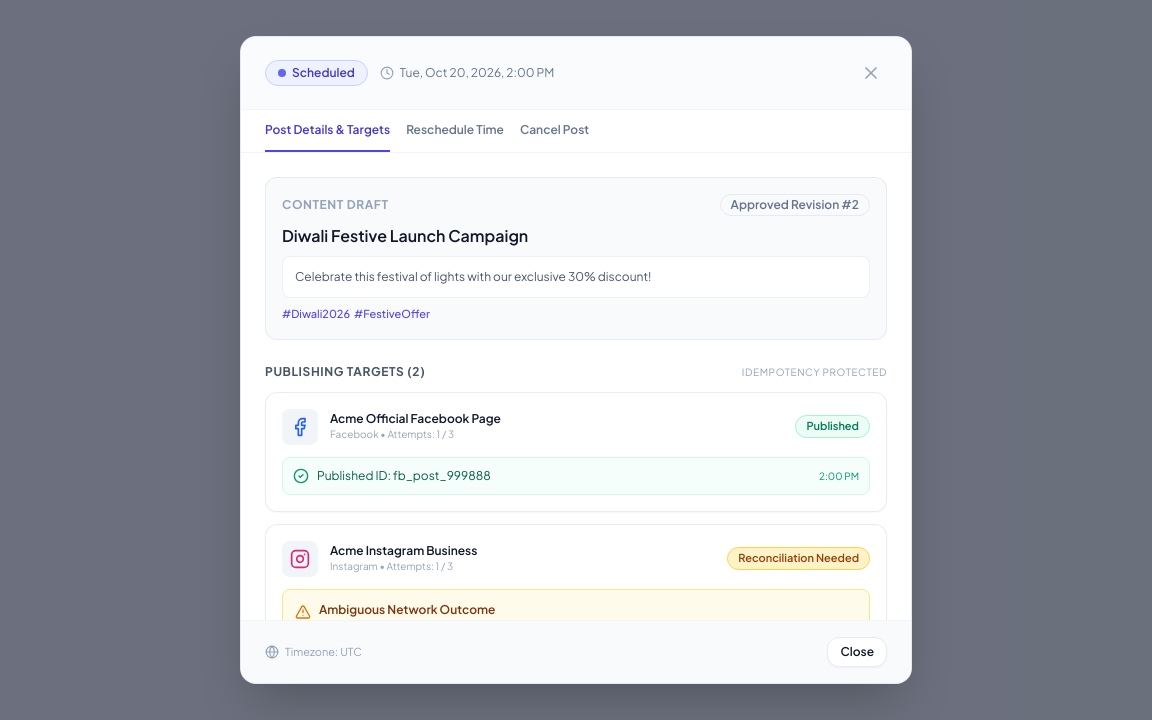
Test: PostInspectorModal Component › allows switching to Cancel Post tab
Click the button "Cancel Post".
click(555, 131)  # box [520,110,589,152]
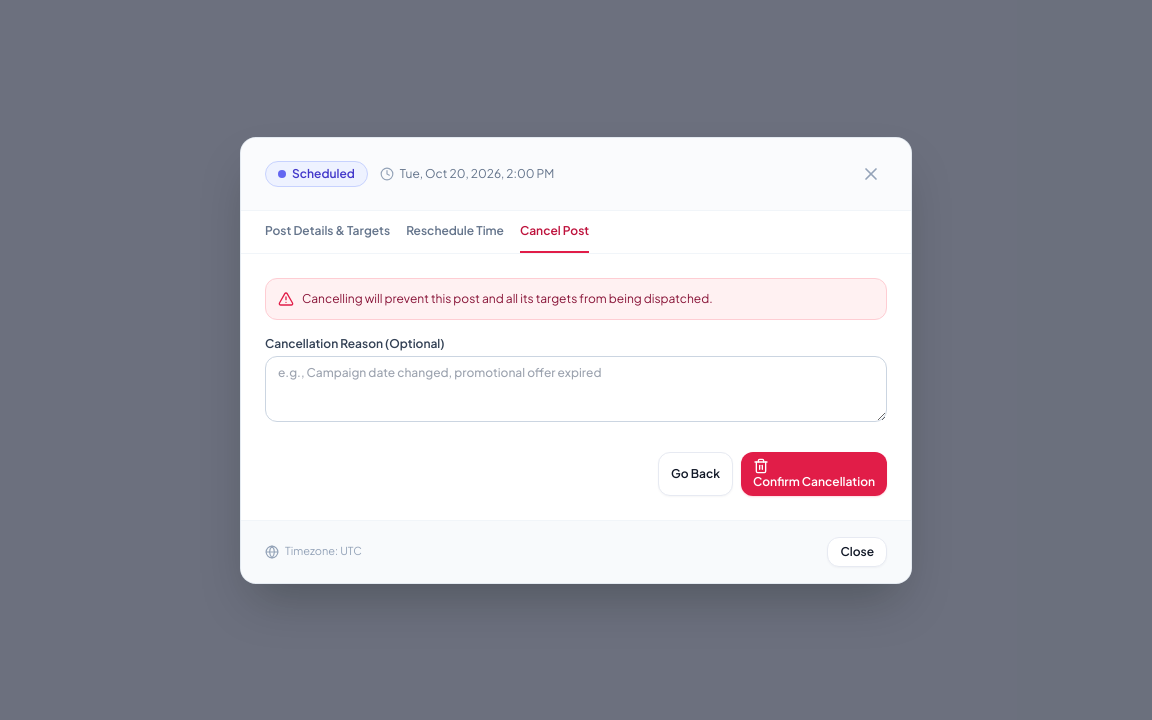
Expected: the text "Cancelling will prevent this post and all its targets" is shown, [302,290,713,306]
Expected: the button "Confirm Cancellation" is shown, [741,452,887,496]
